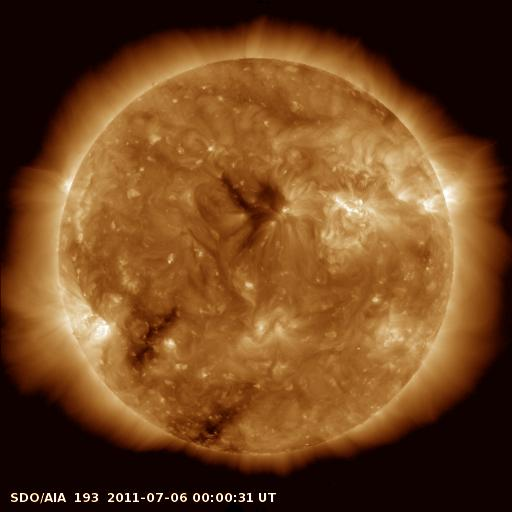coronal_hole: (215, 170, 285, 249), (175, 400, 248, 450), (123, 310, 182, 364)
